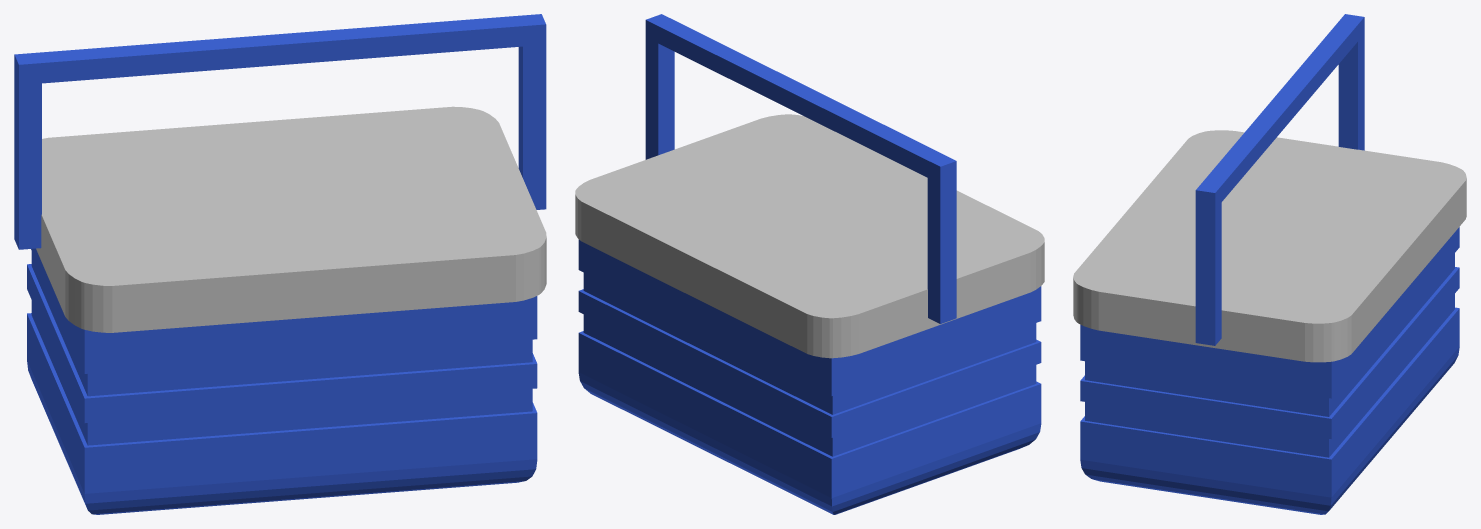
Rendered from emptyLifeboatContainer-Dq_MuPRs.glb.
3 views of the same model, side by side, from view 1: azimuth 30°, elevation 25°; view 2: azimuth 150°, elevation 25°; view 3: azimuth 270°, elevation 25° (orthographic). The views are drawn at different scales.
Parts seen in each view (by area): view 1: emptyLifeboatContainer:Box001, emptyLifeboatContainer:Box002; view 2: emptyLifeboatContainer:Box001, emptyLifeboatContainer:Box002; view 3: emptyLifeboatContainer:Box001, emptyLifeboatContainer:Box002.
Part boxes in pixels (x1,y1,x2,y2): emptyLifeboatContainer:Box001: [27, 106, 546, 514]; emptyLifeboatContainer:Box002: [14, 14, 546, 249]; emptyLifeboatContainer:Box001: [575, 114, 1044, 514]; emptyLifeboatContainer:Box002: [645, 14, 956, 323]; emptyLifeboatContainer:Box001: [1073, 130, 1466, 514]; emptyLifeboatContainer:Box002: [1195, 14, 1364, 345].
Bounding box in the file's own units: 2294357 × 1824069 × 1974000.
